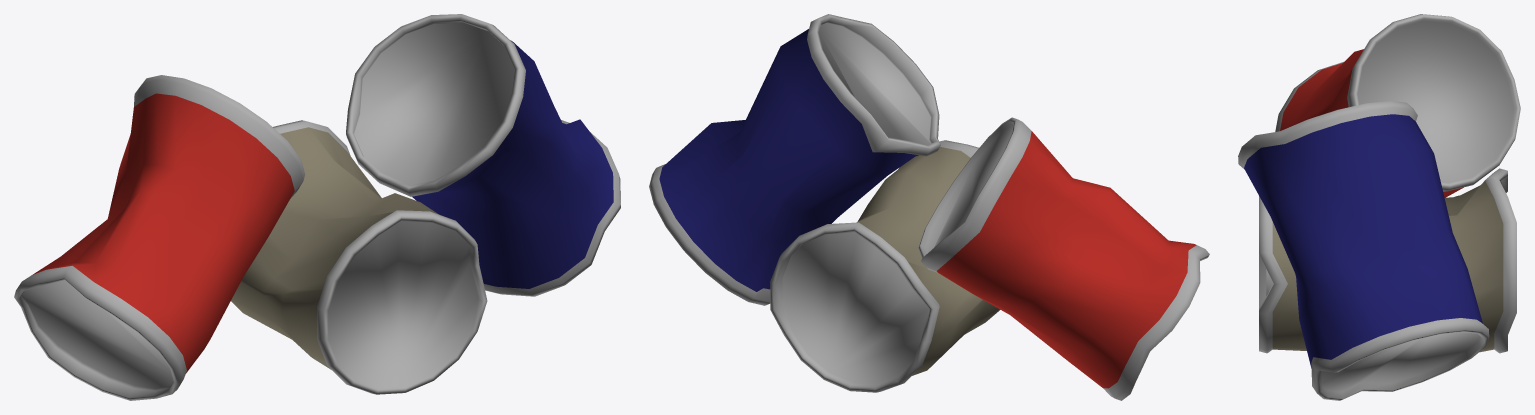
File: canister.fbx
The picture shows the model from 3 angles, left to right: view 1: azimuth 30°, elevation 25°; view 2: azimuth 150°, elevation 25°; view 3: azimuth 270°, elevation 25°; orthographic projection. The views are drawn at different scales.
Parts seen in each view (by area): view 1: canister, canister2, canister3; view 2: canister2, canister, canister3; view 3: canister2, canister, canister3.
Part boxes in pixels (<box>): canister: <box>14,75,305,400</box>; canister2: <box>346,14,620,296</box>; canister3: <box>231,120,487,394</box>; canister2: <box>649,14,940,305</box>; canister: <box>918,117,1209,400</box>; canister3: <box>770,140,1000,392</box>; canister2: <box>1238,101,1489,400</box>; canister: <box>1275,14,1520,197</box>; canister3: <box>1259,168,1516,353</box>.
Bounding box in the file's own units: 711 × 368 × 318.
